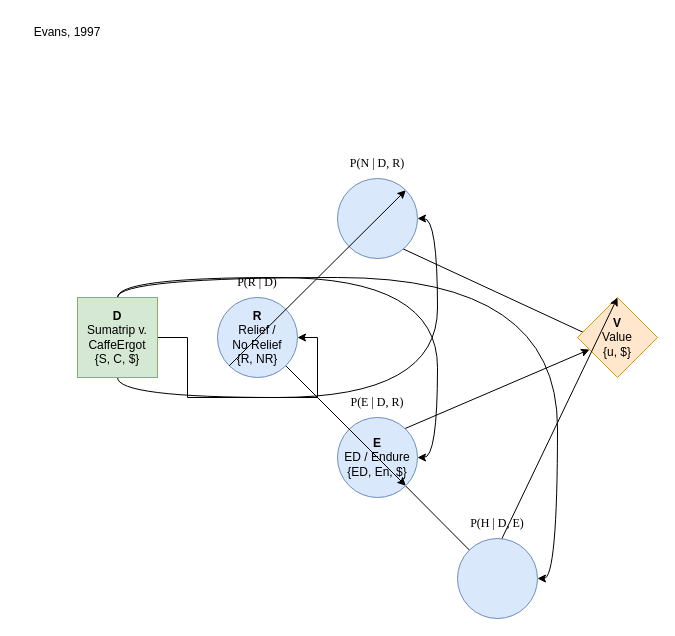
Some shapes in this 675 by 636 pixel diagram are drawn without their labels. Here are the shapes that lost their labels. From the top down, the centre of each, then its label:
At [377,218]: "N NonRecur / Recur {NRe, Re}".
At [497,578]: "H Hosp / Relief {H, R, $}".
